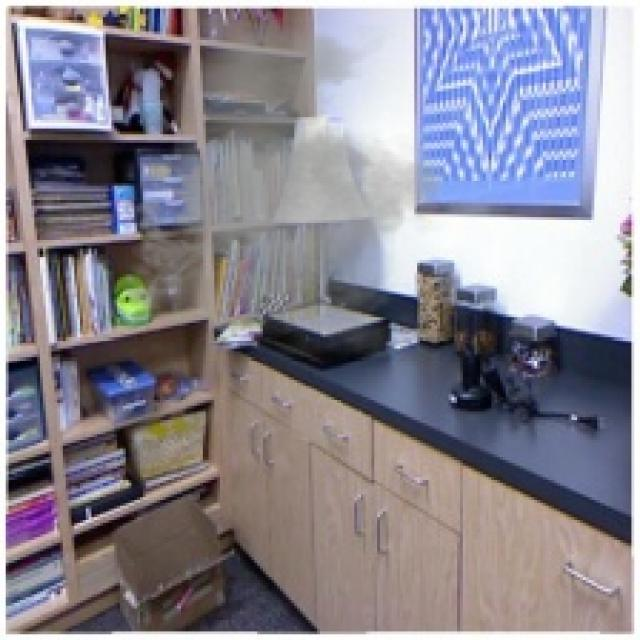smoke: (112, 12, 457, 357)
